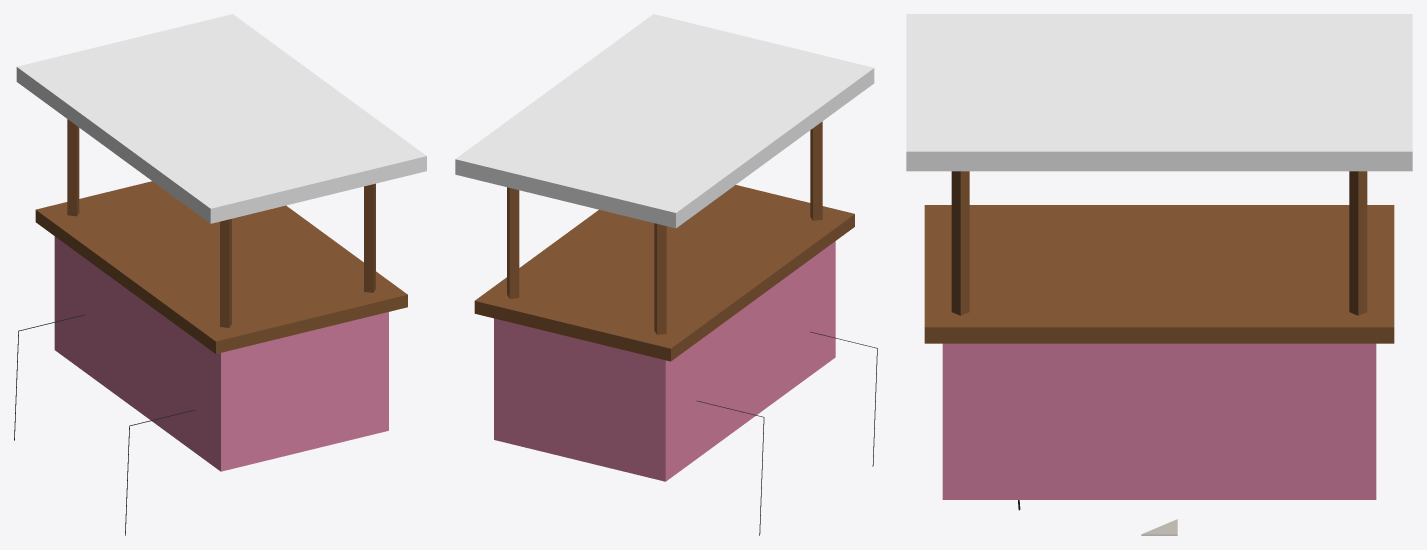
Rendered from sp_cart.glb.
3 renders of one model, left to right at view 1: azimuth 30°, elevation 25°; view 2: azimuth 150°, elevation 25°; view 3: azimuth 270°, elevation 25°, orthographic. The views are drawn at different scales.
Parts seen in each view (by area): view 1: sp_cart_lod0; view 2: sp_cart_lod0; view 3: sp_cart_lod0.
Part boxes in pixels (x1,y1,x2,y2): sp_cart_lod0: (14, 14, 426, 535); sp_cart_lod0: (455, 14, 877, 535); sp_cart_lod0: (906, 14, 1412, 535).
Size of what is drawn, in the model's own units: 2.15 by 2.77 by 2.8.
